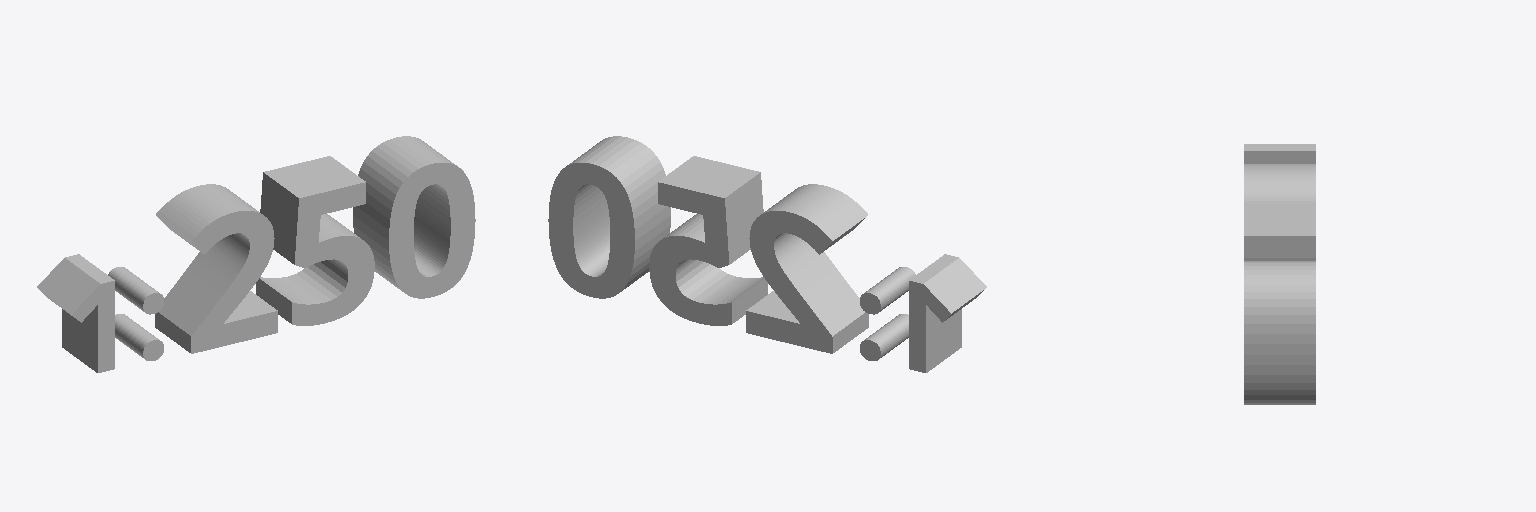
3 views of the same model, side by side, from view 1: azimuth 30°, elevation 25°; view 2: azimuth 150°, elevation 25°; view 3: azimuth 270°, elevation 25° (orthographic).
Parts seen in each view (by area): view 1: obj_0; view 2: obj_0; view 3: obj_0.
Boxes of the visible parts, <box> form: obj_0: <box>37,136,475,372</box>; obj_0: <box>548,136,986,372</box>; obj_0: <box>1244,144,1315,404</box>.
Size of the model in its own units: 64.56 by 20.42 by 10.